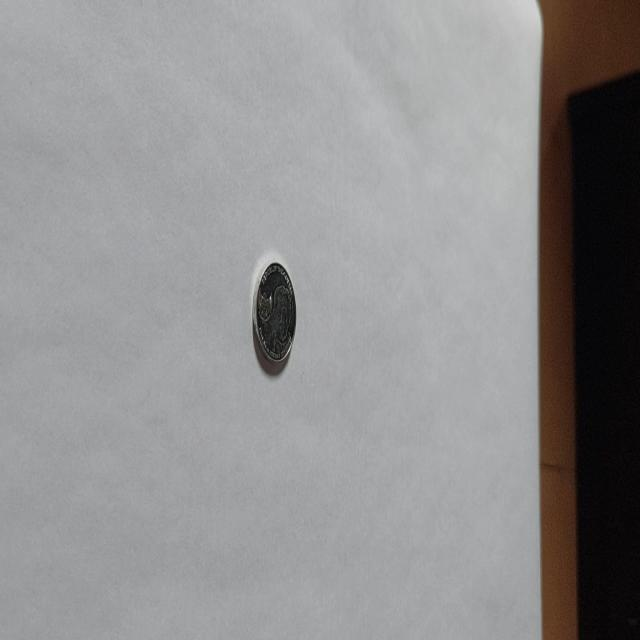seratus rupiah: (251, 260, 297, 374)
